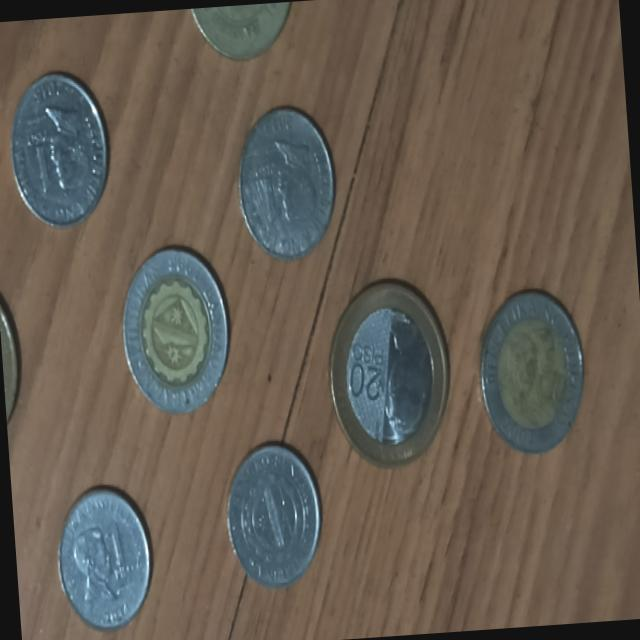10_peso: (123, 248, 228, 412), (482, 294, 581, 447)
1_peso: (10, 75, 106, 225), (238, 108, 334, 257), (227, 444, 320, 587), (59, 489, 149, 628)
20_peso: (330, 282, 448, 465)
